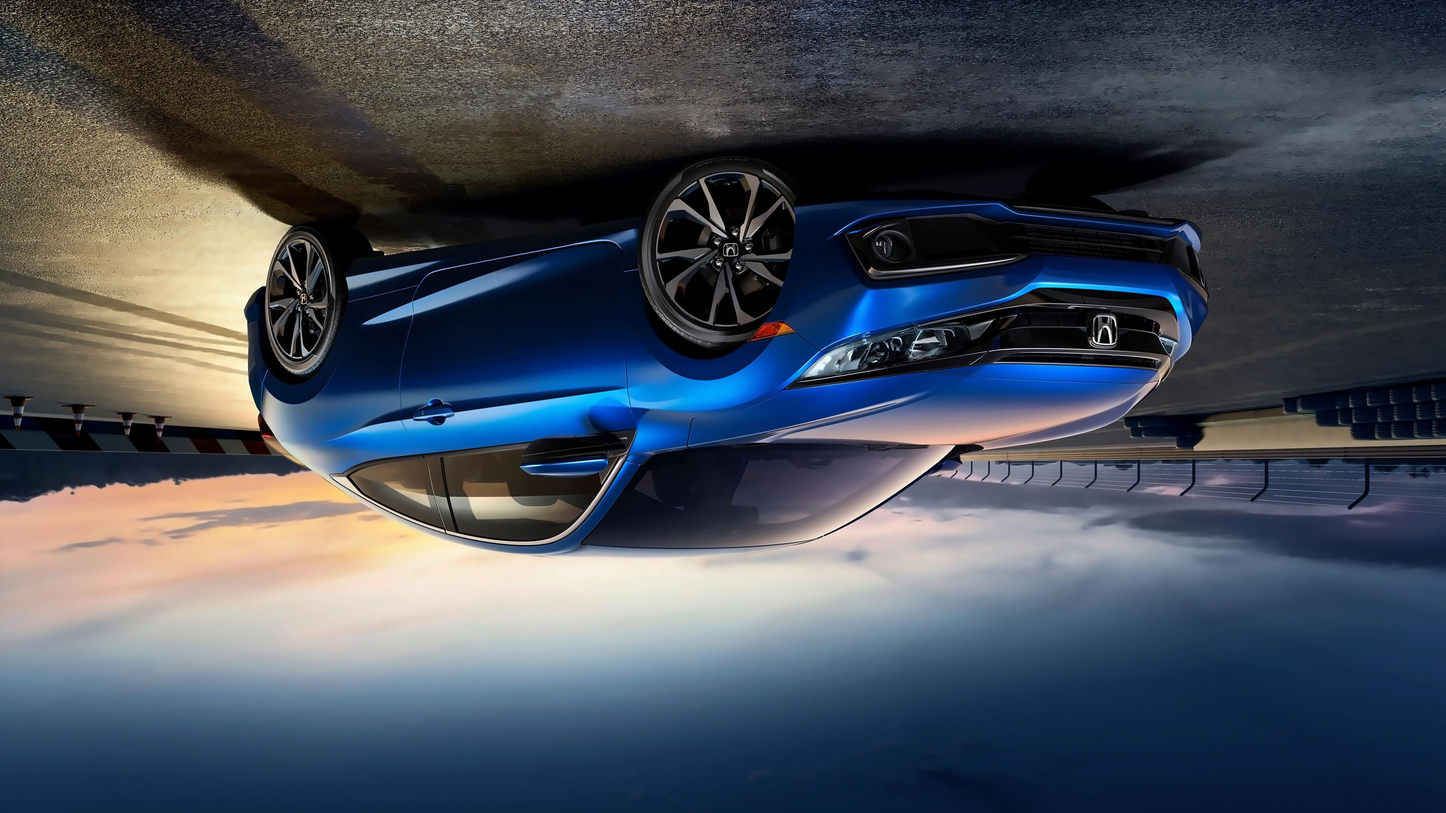Car hood: (686, 361, 1170, 454)
Fender - -F-L-: (624, 227, 828, 468)
Fender - -R-L-: (258, 278, 393, 456)
Front bumper: (783, 198, 1218, 350)
Headlight - -L-: (773, 300, 1021, 396)
Passenger-s door - -F-L-: (394, 235, 625, 551)
Rear bumper: (235, 278, 286, 418)
Rear light - -L-: (246, 405, 307, 472)
Side bumper - -L-: (341, 210, 647, 307)
Side mirror - -L-: (516, 432, 623, 483)
